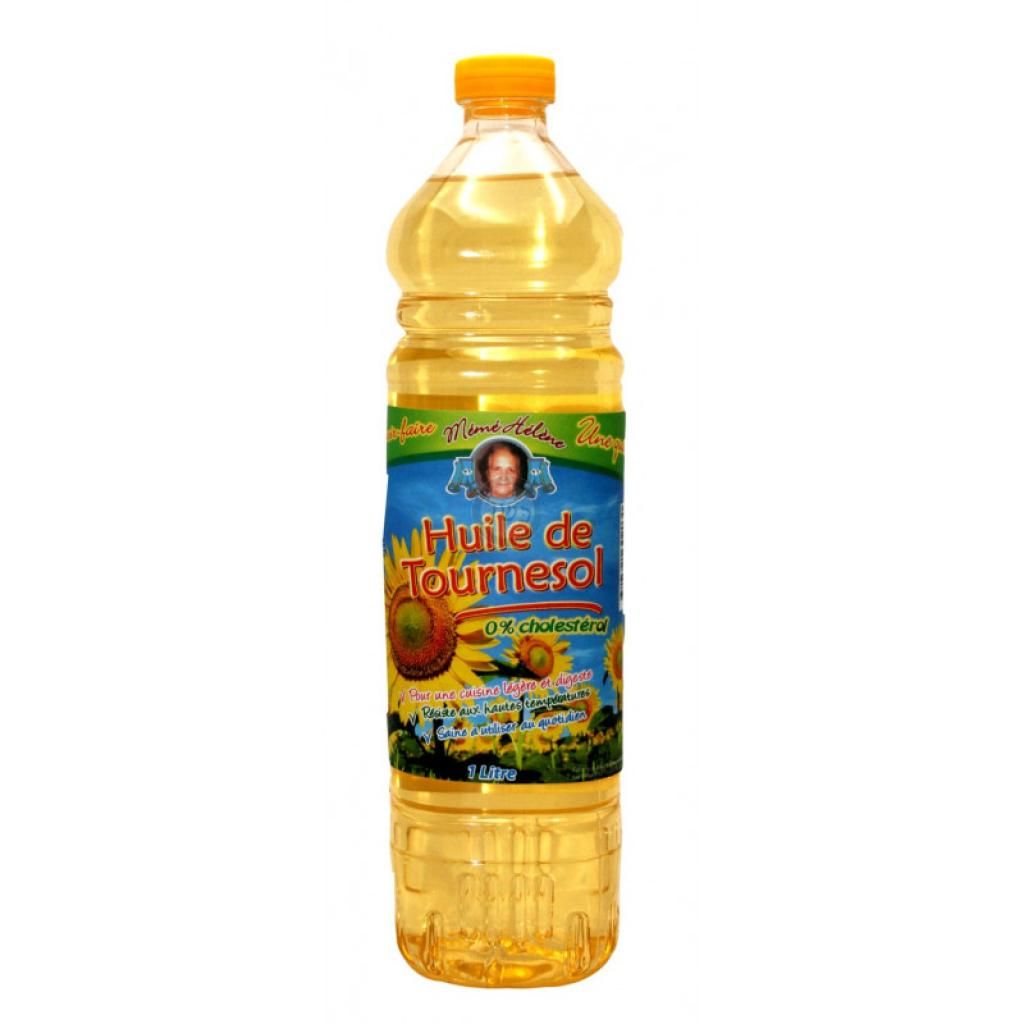plastic: (344, 45, 652, 1000)
